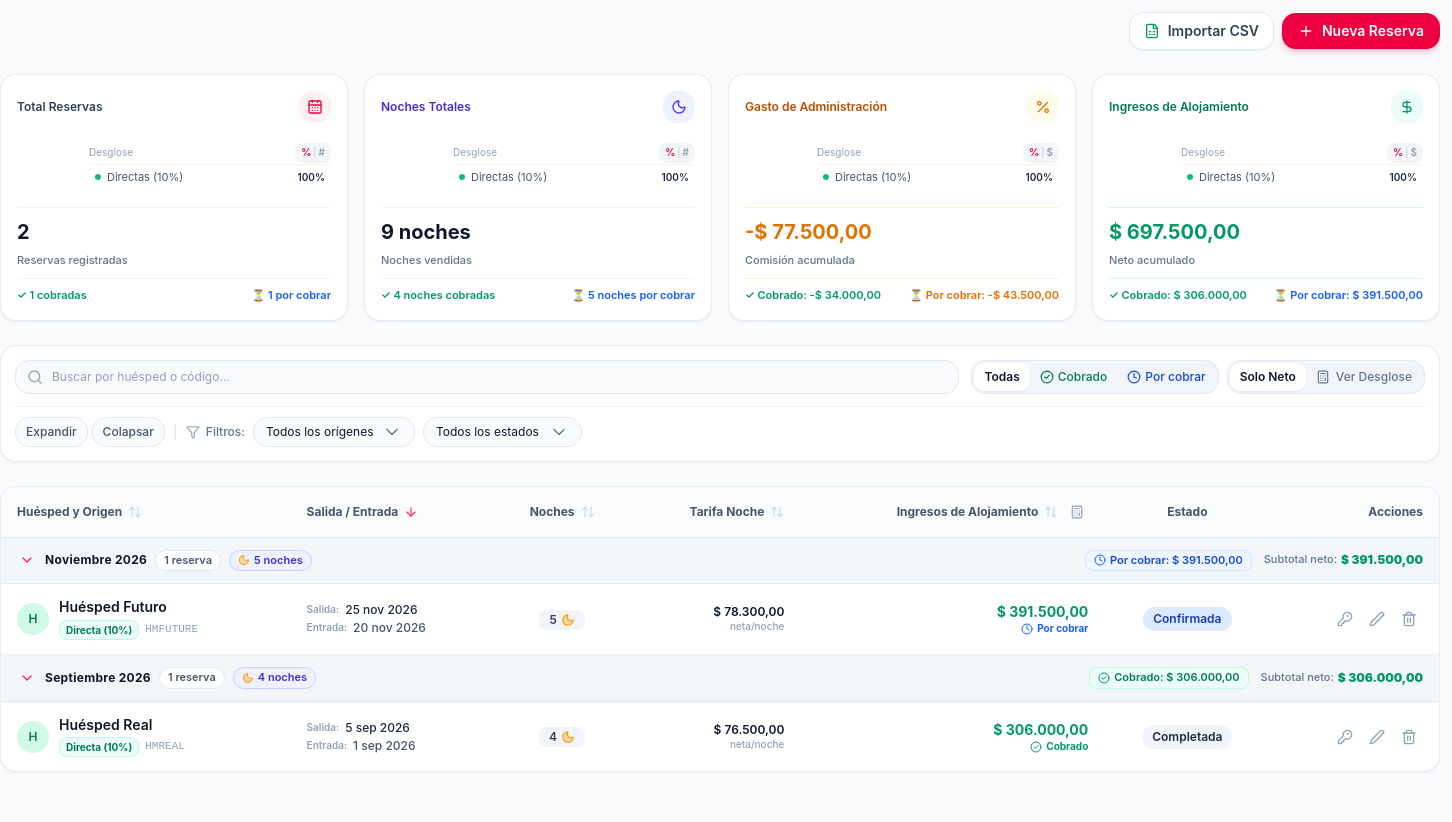
Scenario: Bookings Route - Revenue Breakdown and Toggle › Financial Horizon (Real vs Futuro) › displays Real and Futuro badges on booking rows and filters correctly with horizon buttons
Check: the text "Huésped Real" is shown, box x1=59 y1=716 x2=152 y2=733
Check: the text "Huésped Futuro" is shown, box x1=59 y1=598 x2=167 y2=615
// Click "Cobrado"
Click the button "Cobrado". click: (1073, 376)
box: x1=1030 y1=362 x2=1117 y2=390
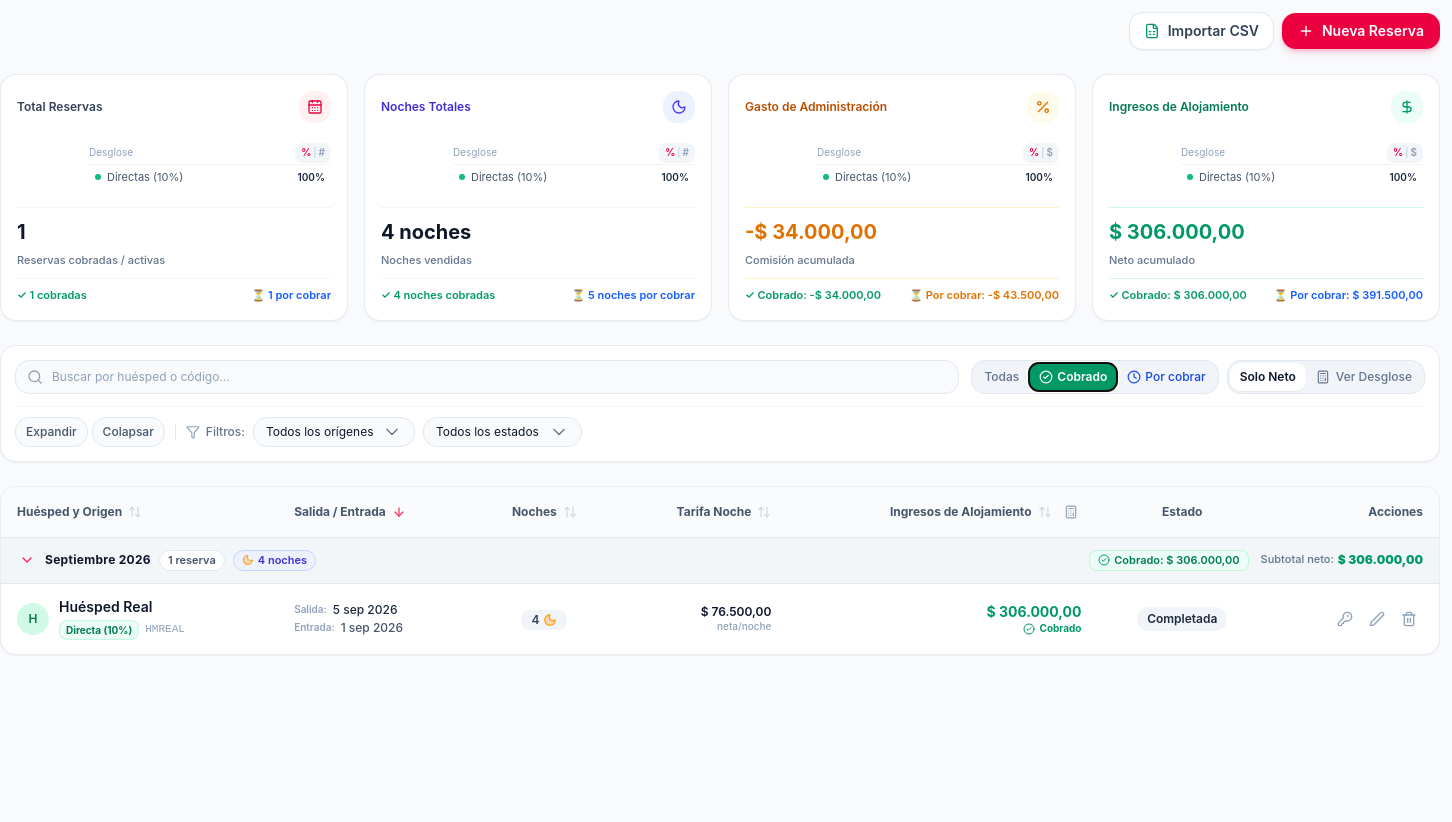
Check: the text "Huésped Real" is shown, box x1=59 y1=598 x2=152 y2=615
Check: the text "Huésped Futuro" is gone
// Click "Por cobrar"
Click the button "Por cobrar". click: (1166, 376)
box: x1=1117 y1=362 x2=1216 y2=390
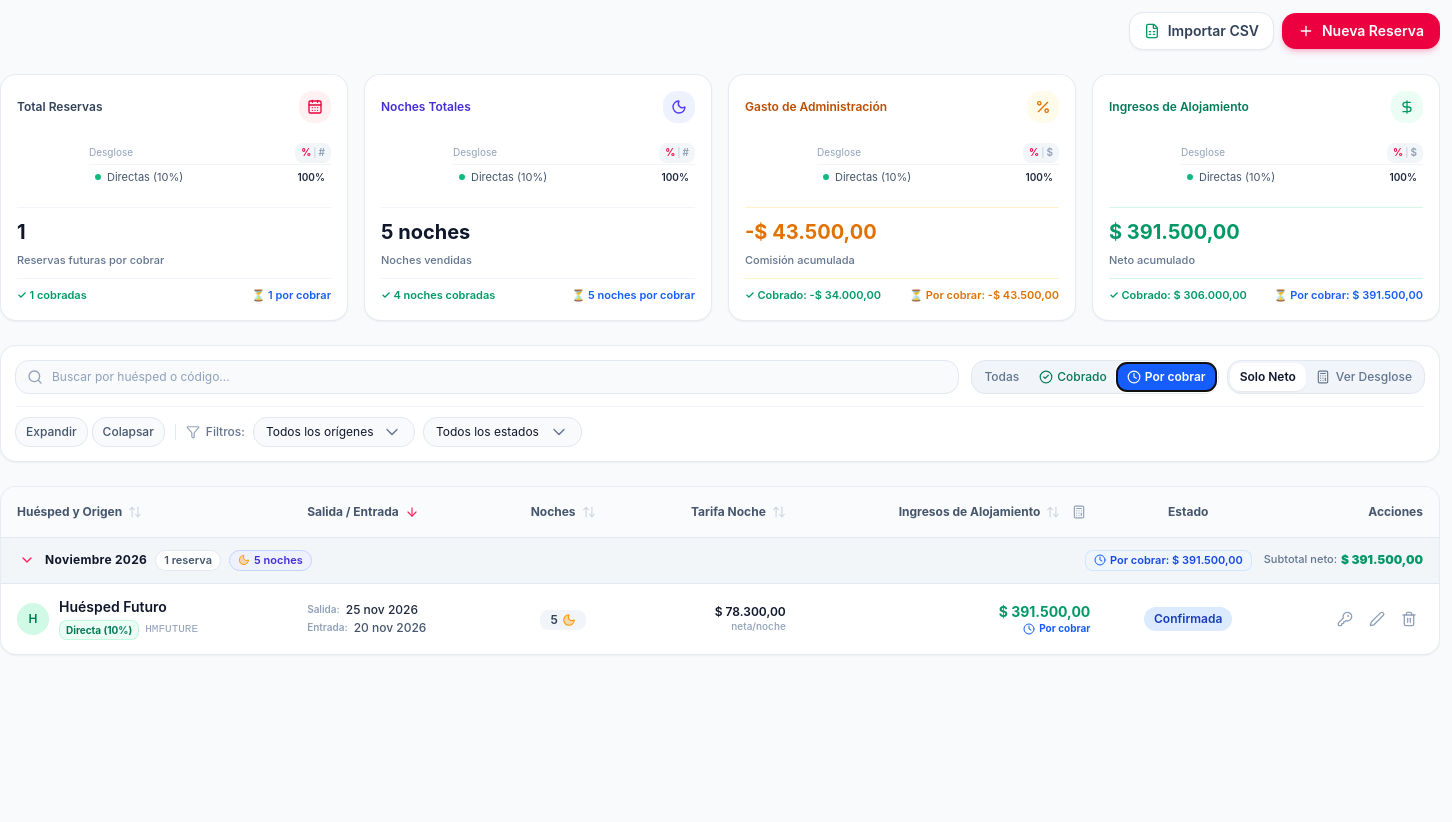
Check: the text "Huésped Real" is gone
Check: the text "Huésped Futuro" is shown, box x1=59 y1=598 x2=167 y2=615
// Click "Todas" to restore
Click the button "Todas". click: (1002, 376)
box: x1=974 y1=362 x2=1029 y2=390
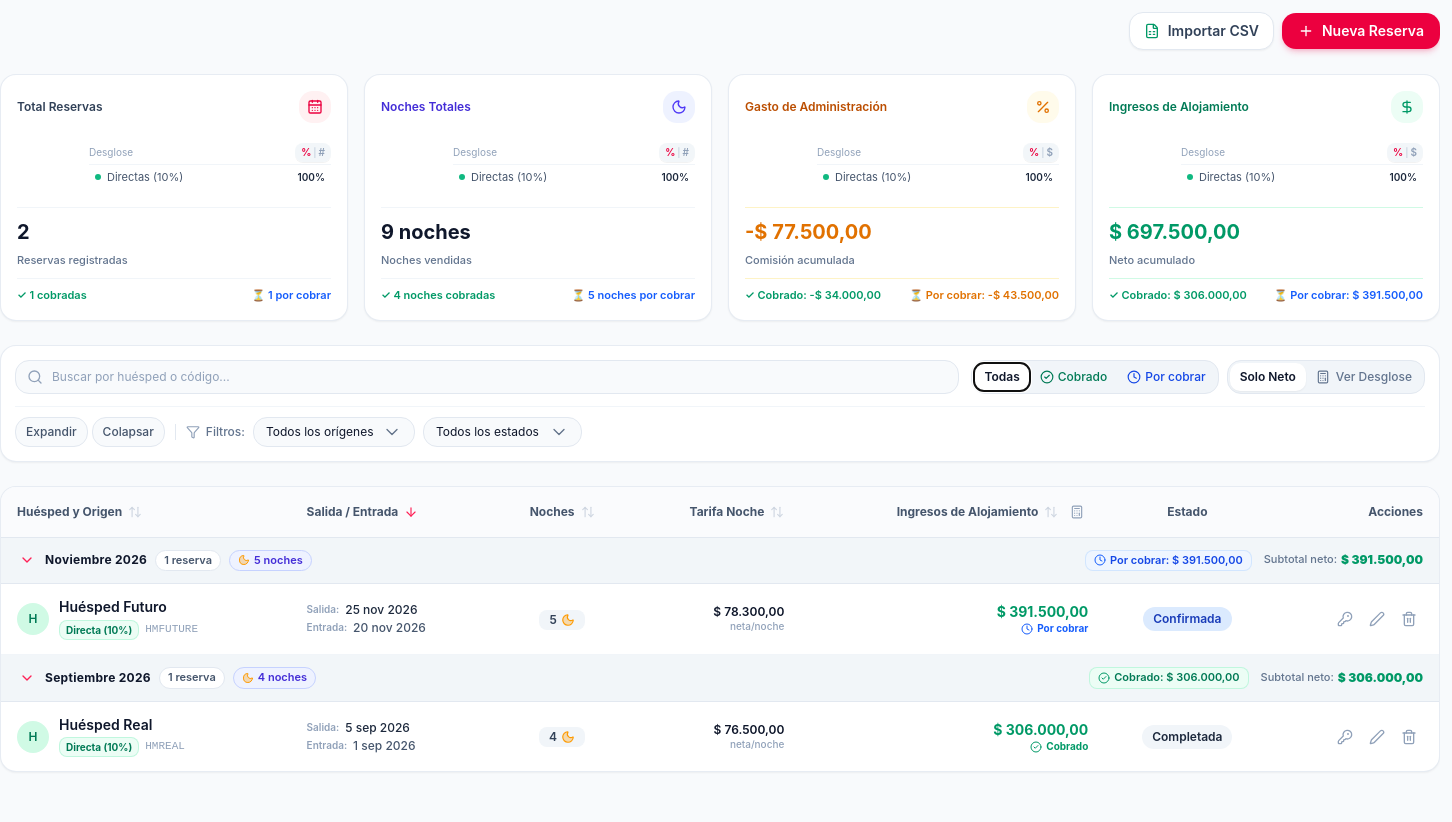
Check: the text "Huésped Futuro" is shown, box x1=59 y1=598 x2=167 y2=615
Check: the text "Huésped Real" is shown, box x1=59 y1=716 x2=152 y2=733
